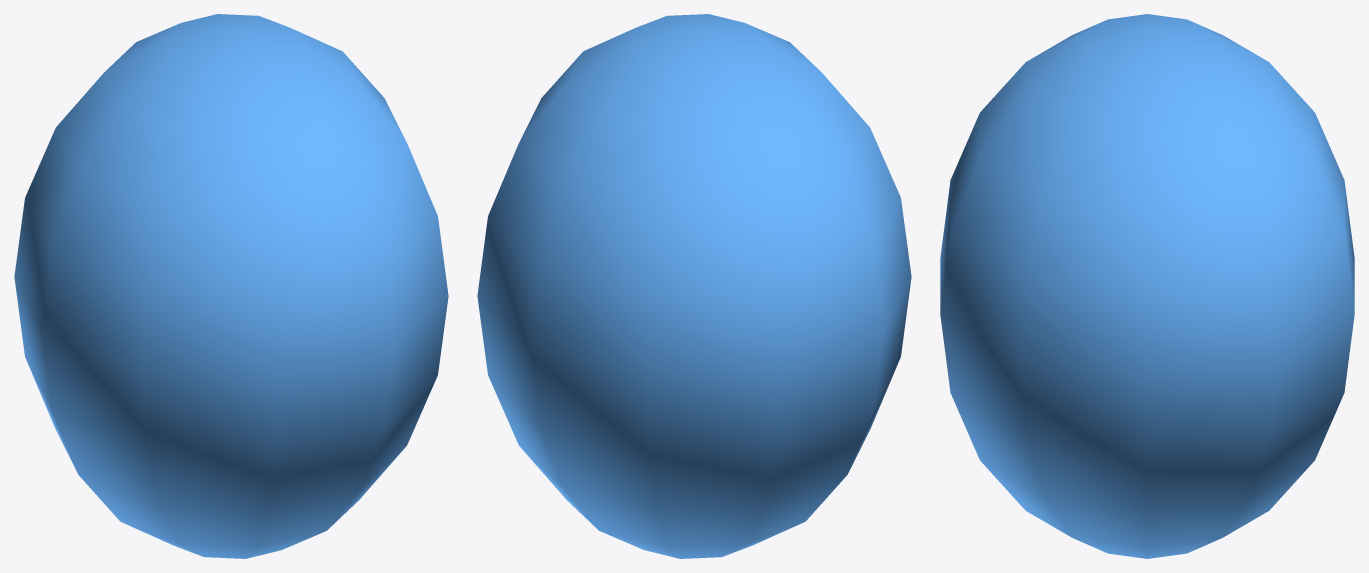
Rendered from galehatch_stage2.obj.
3 renders of one model, left to right at view 1: azimuth 30°, elevation 25°; view 2: azimuth 150°, elevation 25°; view 3: azimuth 270°, elevation 25°, orthographic.
Size of the model in its own units: 2 by 2.6 by 1.9.
